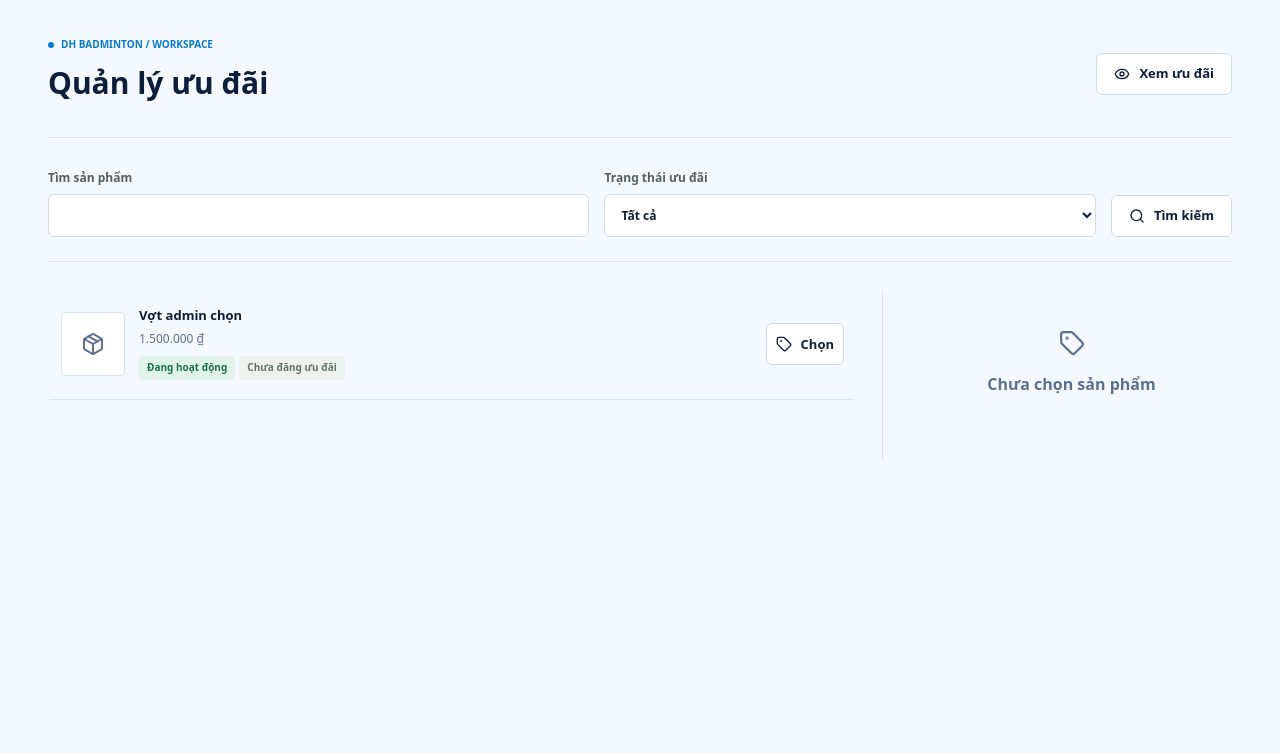
requires explicit product selection and publishes a percentage with a price preview
The image size is (1280, 753).
Expected: the heading "Chưa chọn sản phẩm" is shown, [987,373,1156,395]
What coordinates should you click on to do the following:
click the button with aria-label "Chọn Vợt admin chọn"
I would click on:
 (805, 344)
Its box is [766,323,844,365].
(page scrolled)
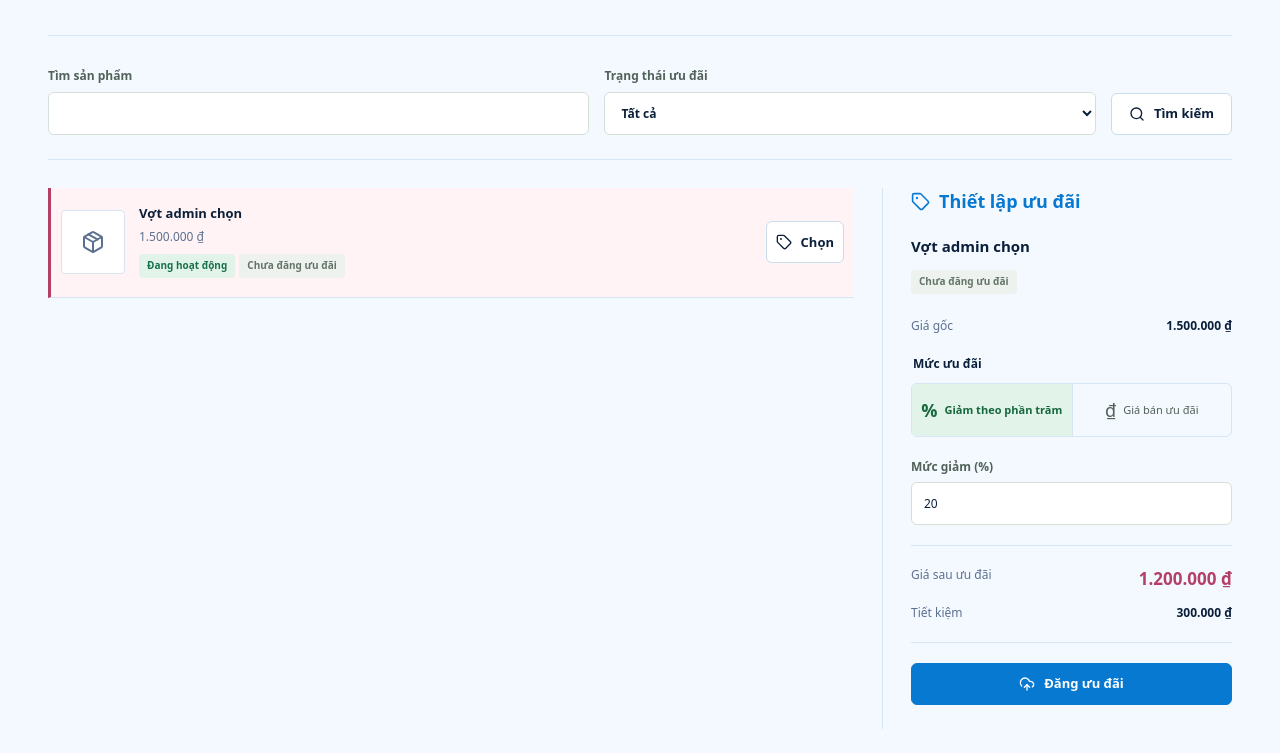
Expected: the text "1.200.000 ₫" is shown, [1139,566,1232,592]
What coordinates should you click on to do the following:
click the button "Đăng ưu đãi"
I would click on:
 (1072, 684)
Its box is [911,663,1232,705].
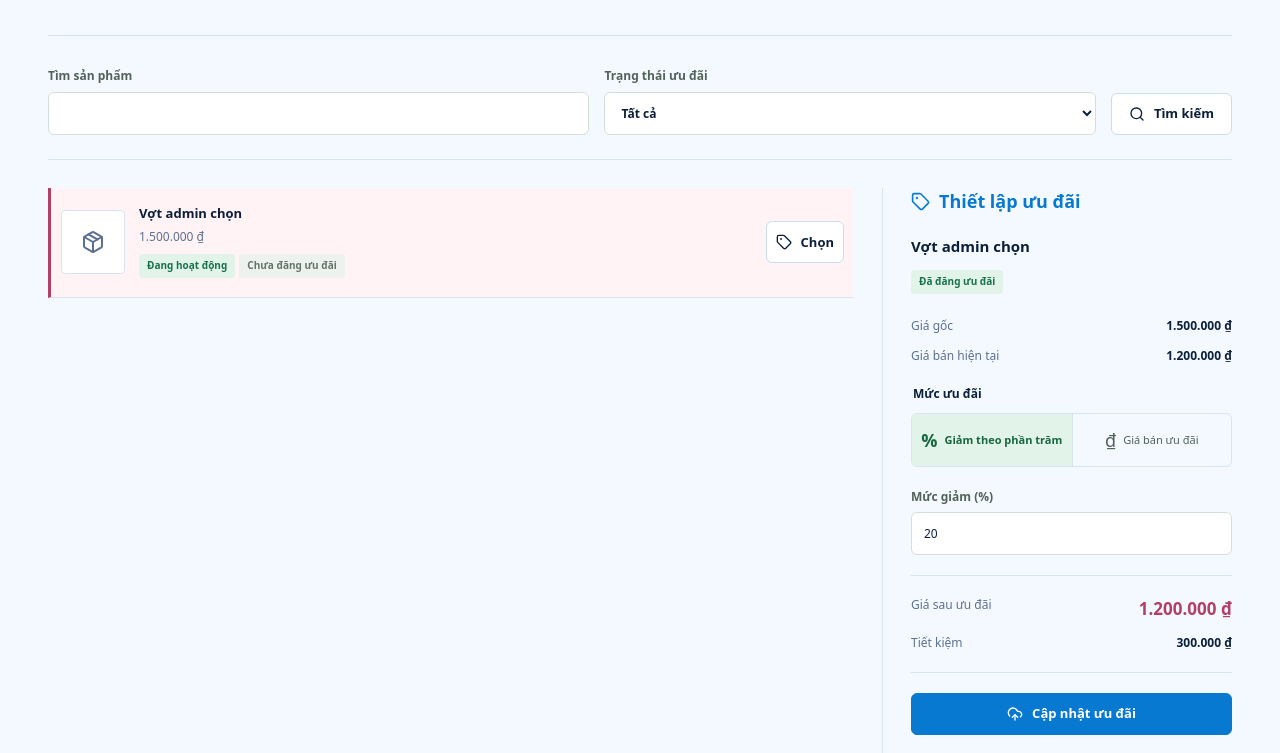
Expected: the button "Cập nhật ưu đãi" is shown, [911,693,1232,735]
